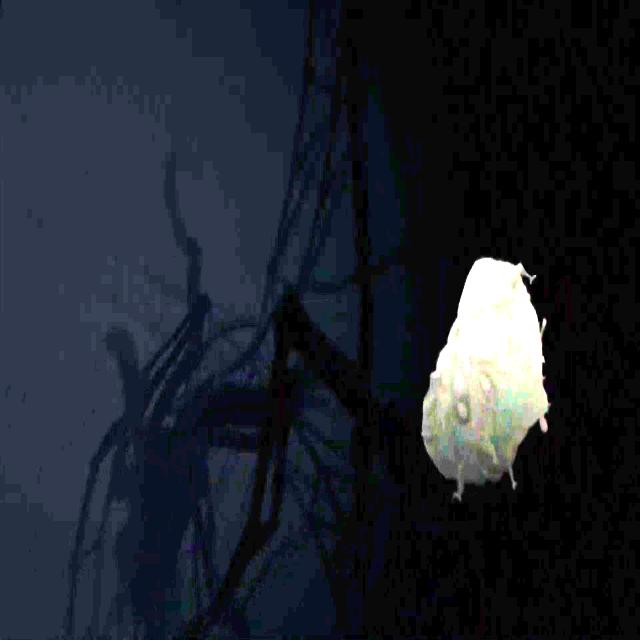blob: (422, 260, 548, 496)
